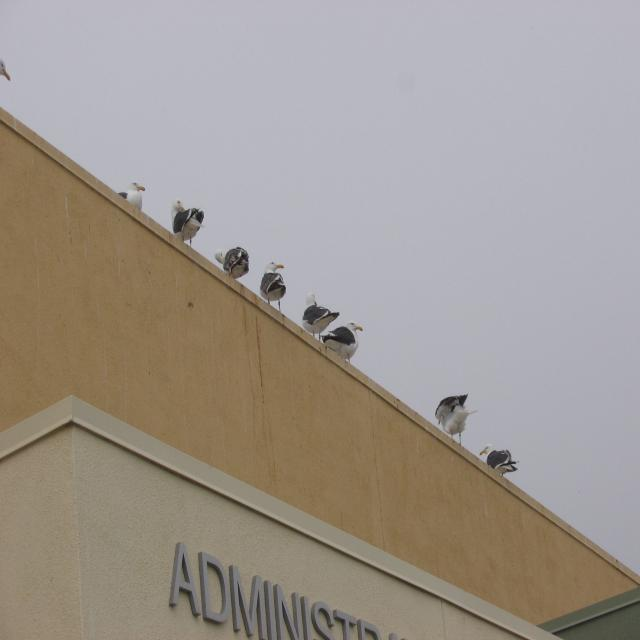bird: (432, 392, 473, 446), (318, 320, 363, 368), (168, 203, 207, 256), (214, 246, 252, 292), (259, 262, 289, 316), (478, 448, 522, 482), (114, 174, 149, 216), (297, 297, 342, 327)
